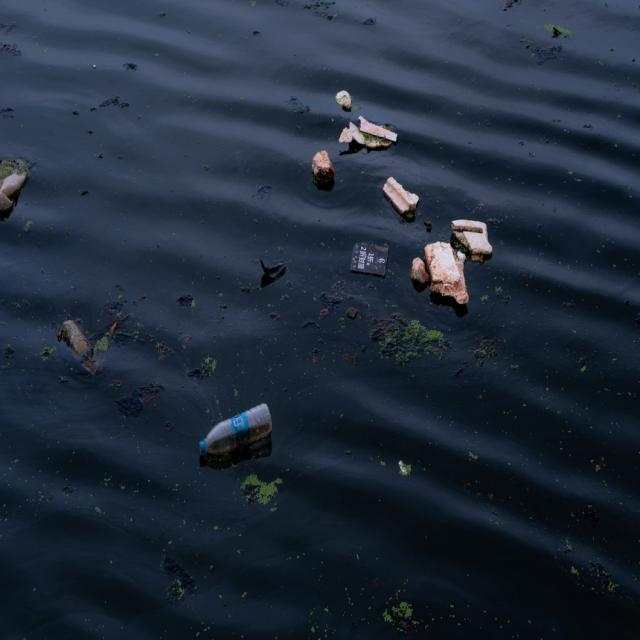foam: (423, 239, 471, 308), (449, 218, 493, 258), (382, 176, 420, 216), (309, 148, 339, 188), (411, 252, 432, 289)
plastic: (199, 401, 274, 456), (60, 318, 102, 376)
unknow: (0, 151, 37, 221), (339, 117, 401, 151), (350, 239, 391, 279), (335, 87, 357, 112)
